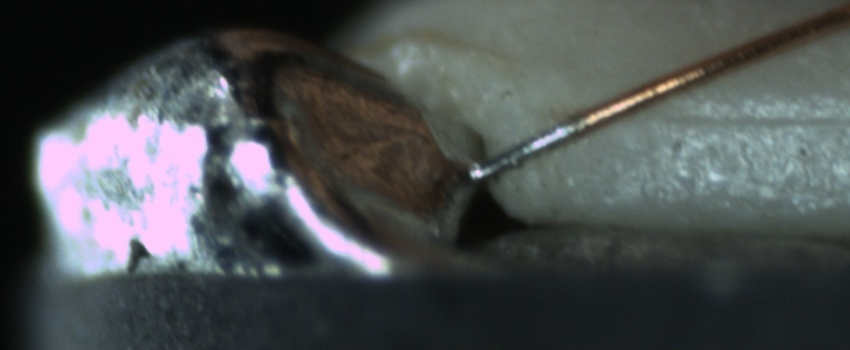DL: (638, 85, 850, 150)
TS: (469, 116, 581, 182)
